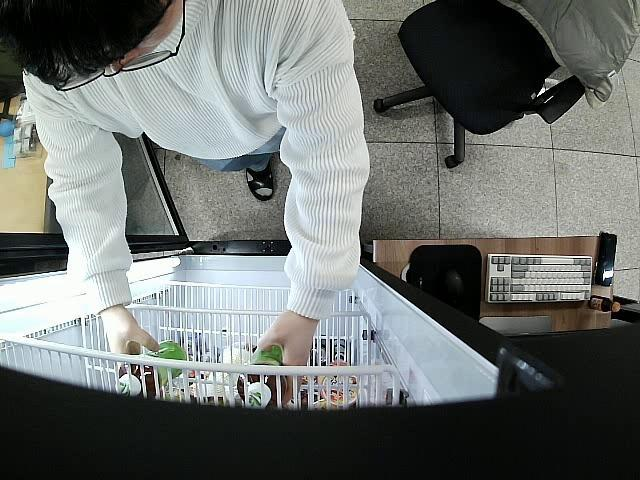19_17cha: (118, 341, 192, 400), (238, 340, 284, 408)
